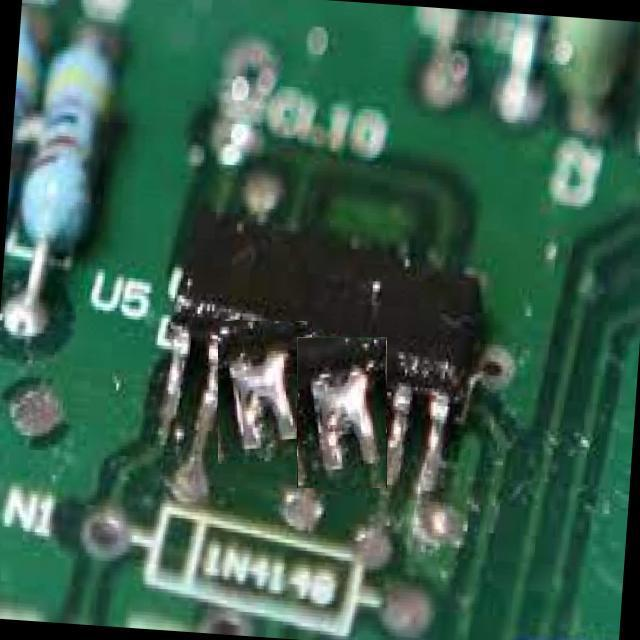damged: (218, 322, 312, 464), (298, 337, 386, 488)
